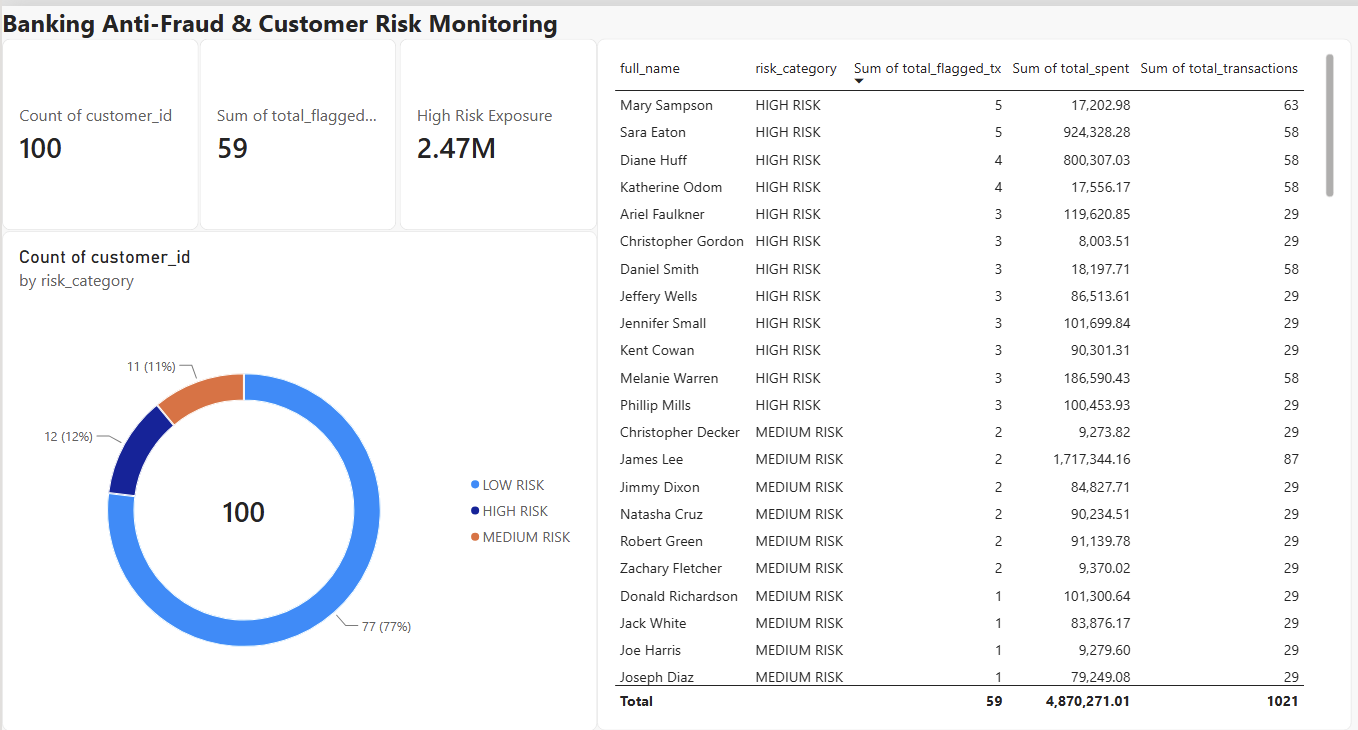

What the dashboard file says about the page in this screenshot:
{"tool":"powerbi","page":{"name":"Page 1","canvas":[1920,1080],"ordinal":0},"visuals":[{"type":"cardVisual","fields":{"Data":["CountNonNull(customer_risk_mart csv.customer_id)"]},"box":[0,32.8,195,190],"z":0},{"type":"cardVisual","fields":{"Data":["Sum(customer_risk_mart csv.total_flagged_tx)"]},"box":[196.7,32.8,195,190],"z":1000},{"type":"cardVisual","fields":{"Data":["customer_risk_mart csv.High Risk Exposure"]},"box":[393.3,32.8,196,190],"z":2000},{"type":"donutChart","fields":{"Category":["customer_risk_mart csv.risk_category"],"Y":["CountNonNull(customer_risk_mart csv.customer_id)"]},"box":[0,222,590,496],"z":3000},{"type":"tableEx","fields":{"Values":["customer_risk_mart csv.full_name","customer_risk_mart csv.risk_category","Sum(customer_risk_mart csv.total_flagged_tx)","Sum(customer_risk_mart csv.total_spent)","Sum(customer_risk_mart csv.total_transactions)"]},"box":[590,32.8,748,686],"z":4000},{"type":"textbox","box":[0,0,560,48],"z":4001}]}

Visuals, with their boxes on the page's 1920x1080 design canvas (x1, y1, x2, y2). These are canvas units, not pixel positions in the 1358x730 screenshot, which may show the page scaled, cropped or inside an application window:
cardVisual - CountNonNull(customer_risk_mart csv.customer_id): <region>0, 33, 195, 223</region>
cardVisual - Sum(customer_risk_mart csv.total_flagged_tx): <region>197, 33, 392, 223</region>
cardVisual - customer_risk_mart csv.High Risk Exposure: <region>393, 33, 589, 223</region>
donutChart - customer_risk_mart csv.risk_category x CountNonNull(customer_risk_mart csv.customer_id): <region>0, 222, 590, 718</region>
tableEx - customer_risk_mart csv.full_name x customer_risk_mart csv.risk_category: <region>590, 33, 1338, 719</region>
textbox: <region>0, 0, 560, 48</region>
